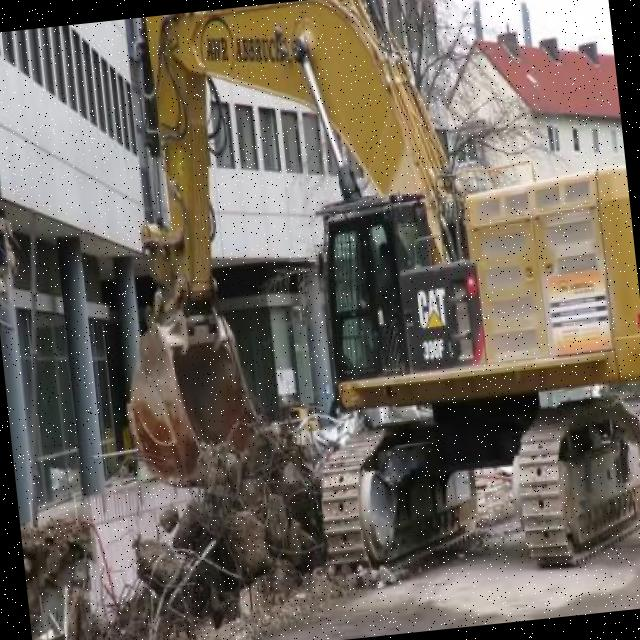Excavator: (84, 0, 640, 611)
